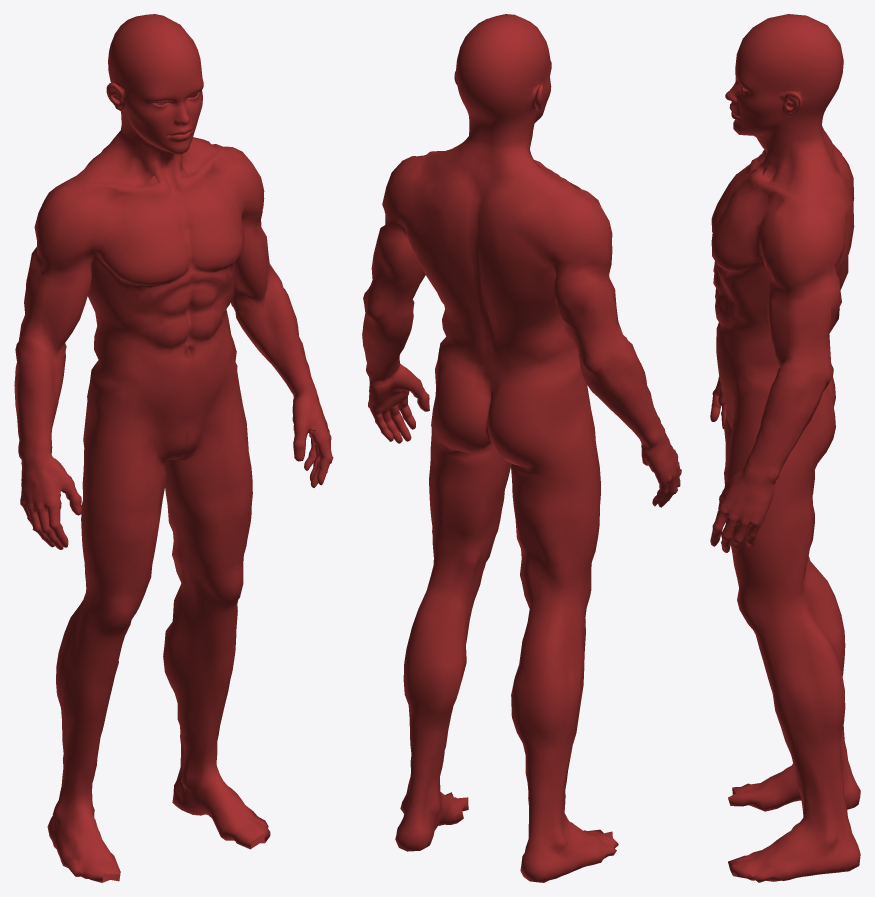
Rendered from Human-001.fbx.
3 views of the same model, side by side, from view 1: azimuth 30°, elevation 25°; view 2: azimuth 150°, elevation 25°; view 3: azimuth 270°, elevation 25° (orthographic).
Visible parts, largest first — view 1: Box008; view 2: Box008; view 3: Box008.
Part boxes in pixels (x1=…): Box008: x1=14, y1=14, x2=333, y2=882; Box008: x1=362, y1=14, x2=681, y2=882; Box008: x1=710, y1=14, x2=860, y2=882.
Bounding box in the file's own units: 110 × 289 × 47.69.
